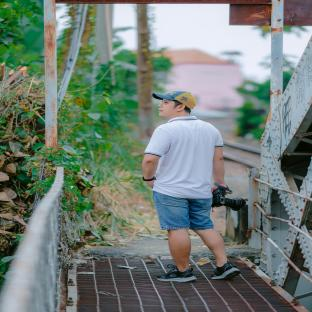Human: (142, 91, 240, 282)
